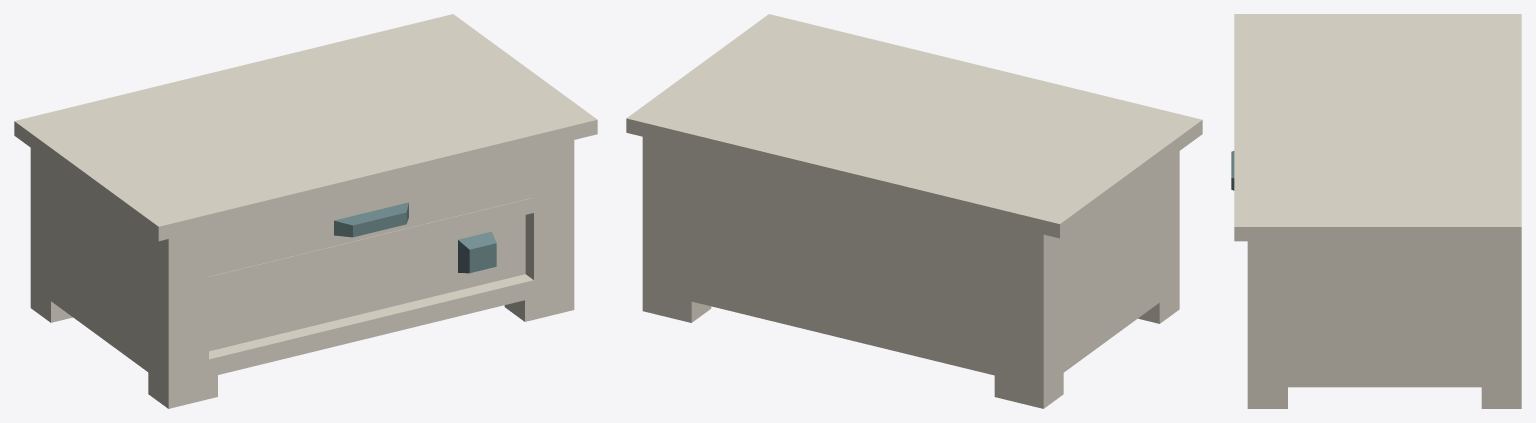
The model's file is Lab_Cabinet.glb.
The picture shows the model from 3 angles, left to right: view 1: azimuth 30°, elevation 25°; view 2: azimuth 150°, elevation 25°; view 3: azimuth 270°, elevation 25°; orthographic projection.
Visible parts, largest first — view 1: cabinetBedDrawer(Clone), door, drawer; view 2: cabinetBedDrawer(Clone); view 3: cabinetBedDrawer(Clone).
Boxes of the visible parts, x1=… form: cabinetBedDrawer(Clone): x1=14, y1=14, x2=597, y2=408; door: x1=209, y1=215, x2=525, y2=351; drawer: x1=209, y1=161, x2=533, y2=276; cabinetBedDrawer(Clone): x1=626, y1=14, x2=1202, y2=408; cabinetBedDrawer(Clone): x1=1234, y1=14, x2=1521, y2=408.
Bounding box in the file's own units: 1.25 × 0.52 × 0.72.
